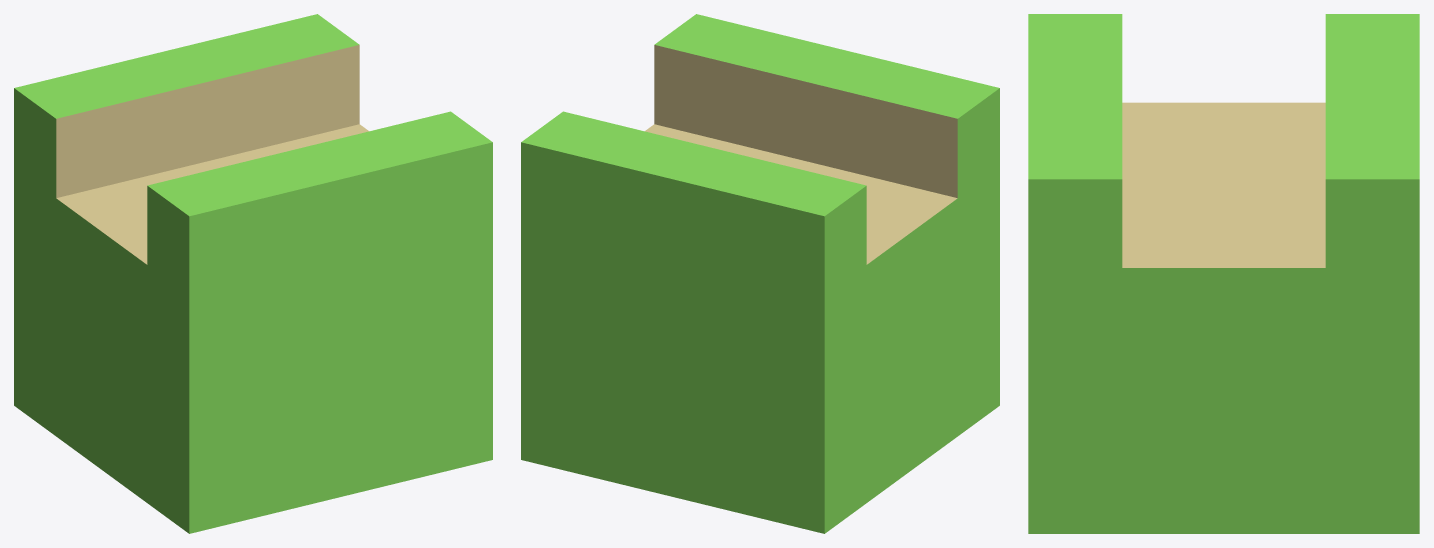
Rendered from path-vertical.glb.
3 renders of one model, left to right at view 1: azimuth 30°, elevation 25°; view 2: azimuth 150°, elevation 25°; view 3: azimuth 270°, elevation 25°, orthographic. The views are drawn at different scales.
Visible parts, largest first — view 1: path-vertical; view 2: path-vertical; view 3: path-vertical.
Part boxes in pixels (box(x1,y1,x2,y2)): path-vertical: box(14, 14, 492, 533); path-vertical: box(521, 14, 999, 533); path-vertical: box(1028, 14, 1419, 533).
Size of the model in its own units: 2 by 2 by 2.
